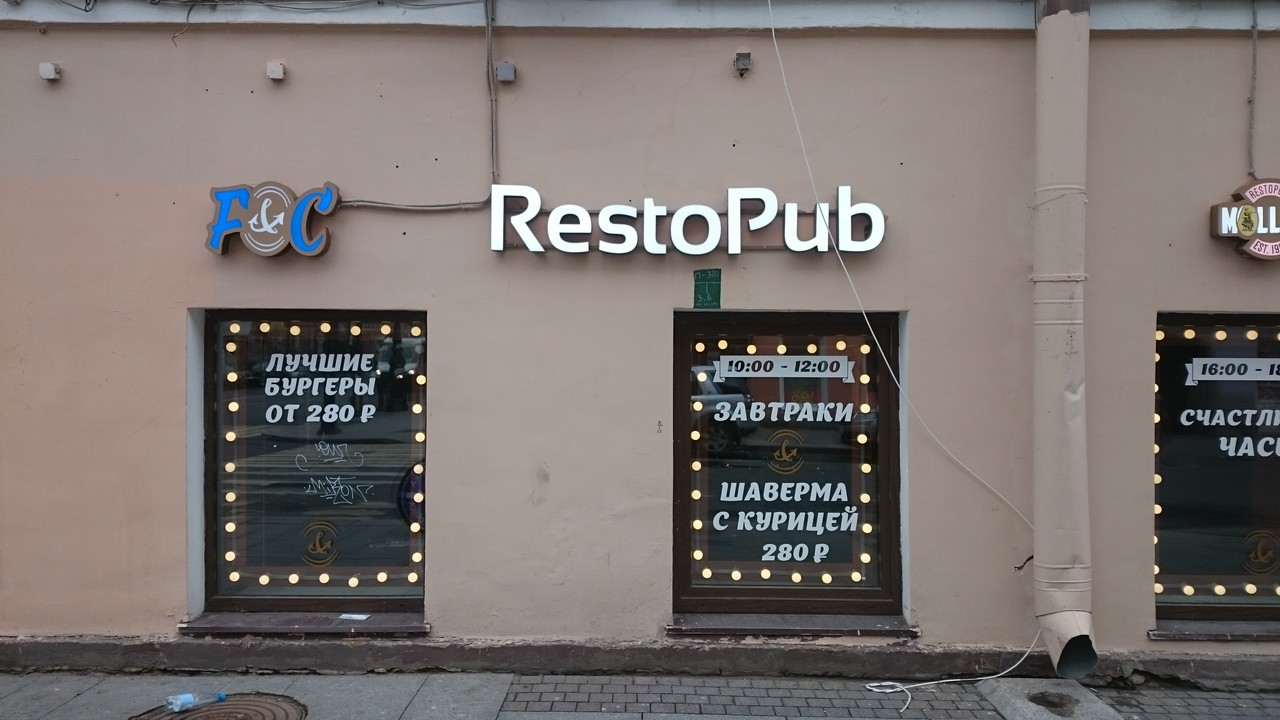signboard: (491, 179, 890, 265), (202, 173, 346, 269)
window: (203, 313, 432, 617), (675, 314, 902, 612)
